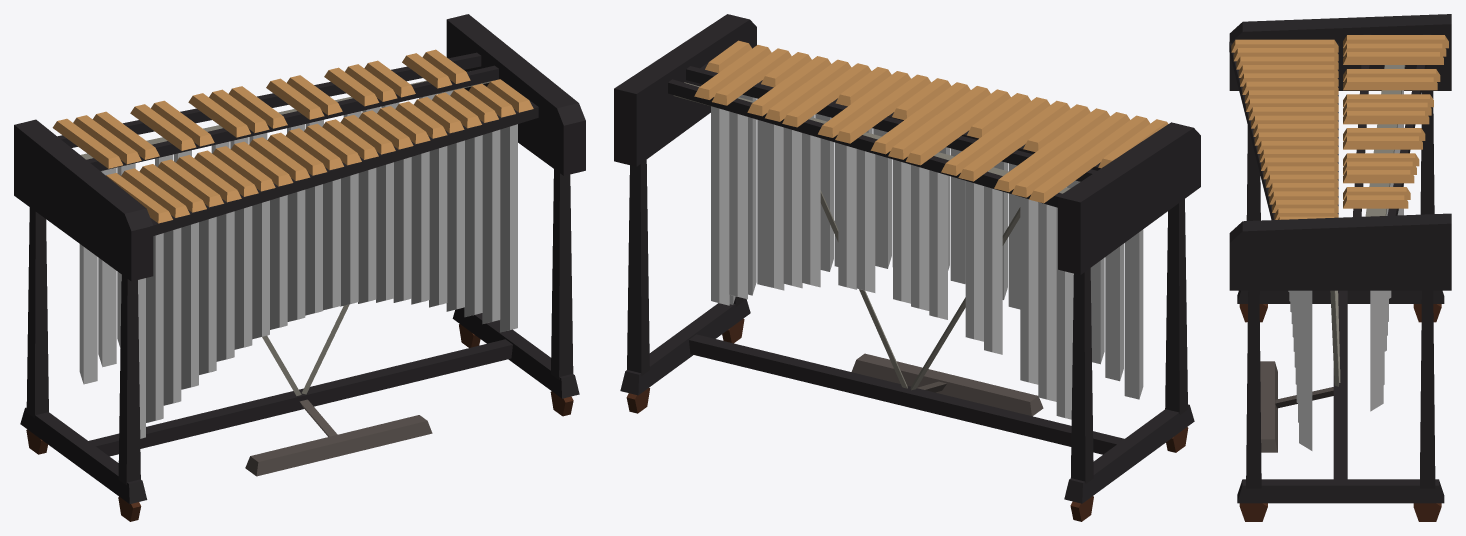
File: vibraphone-e48315.glb
The picture shows the model from 3 angles, left to right: view 1: azimuth 30°, elevation 25°; view 2: azimuth 150°, elevation 25°; view 3: azimuth 270°, elevation 25°; orthographic projection. The views are drawn at different scales.
Visible parts, largest first — view 1: vibraphone-body-metal, vibraphone-body-matte, pedal-bar-metal; view 2: vibraphone-body-metal, vibraphone-body-matte, pedal-bar-metal; view 3: vibraphone-body-matte, vibraphone-body-metal, pedal-bar-metal.
Part boxes in pixels (box(x1,y1,x2,y2)): vibraphone-body-metal: box(52, 49, 533, 438); vibraphone-body-matte: box(14, 14, 585, 521); pedal-bar-metal: box(245, 399, 432, 476); vibraphone-body-metal: box(673, 40, 1168, 419); vibraphone-body-matte: box(614, 14, 1200, 521); pedal-bar-metal: box(851, 353, 1043, 416); vibraphone-body-matte: box(1229, 14, 1451, 521); vibraphone-body-metal: box(1231, 35, 1448, 450); pedal-bar-metal: box(1260, 361, 1333, 452).
Size of the model in its own units: 1.34 by 0.9 by 0.6012.
